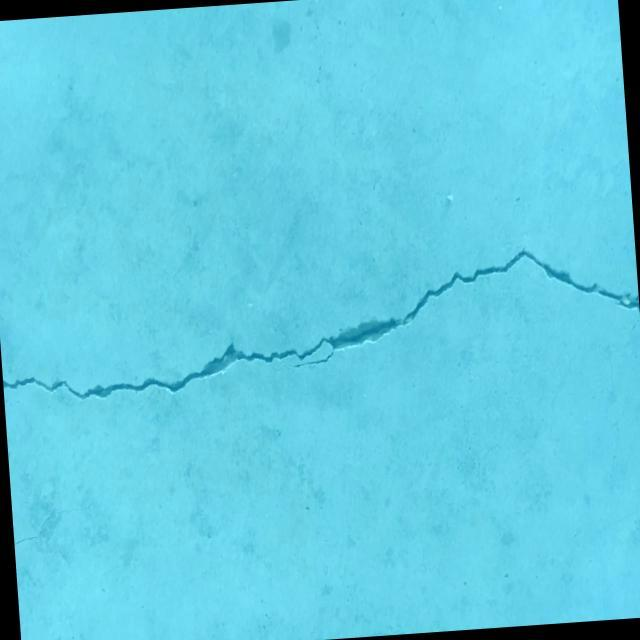crack: (0, 244, 640, 407)
